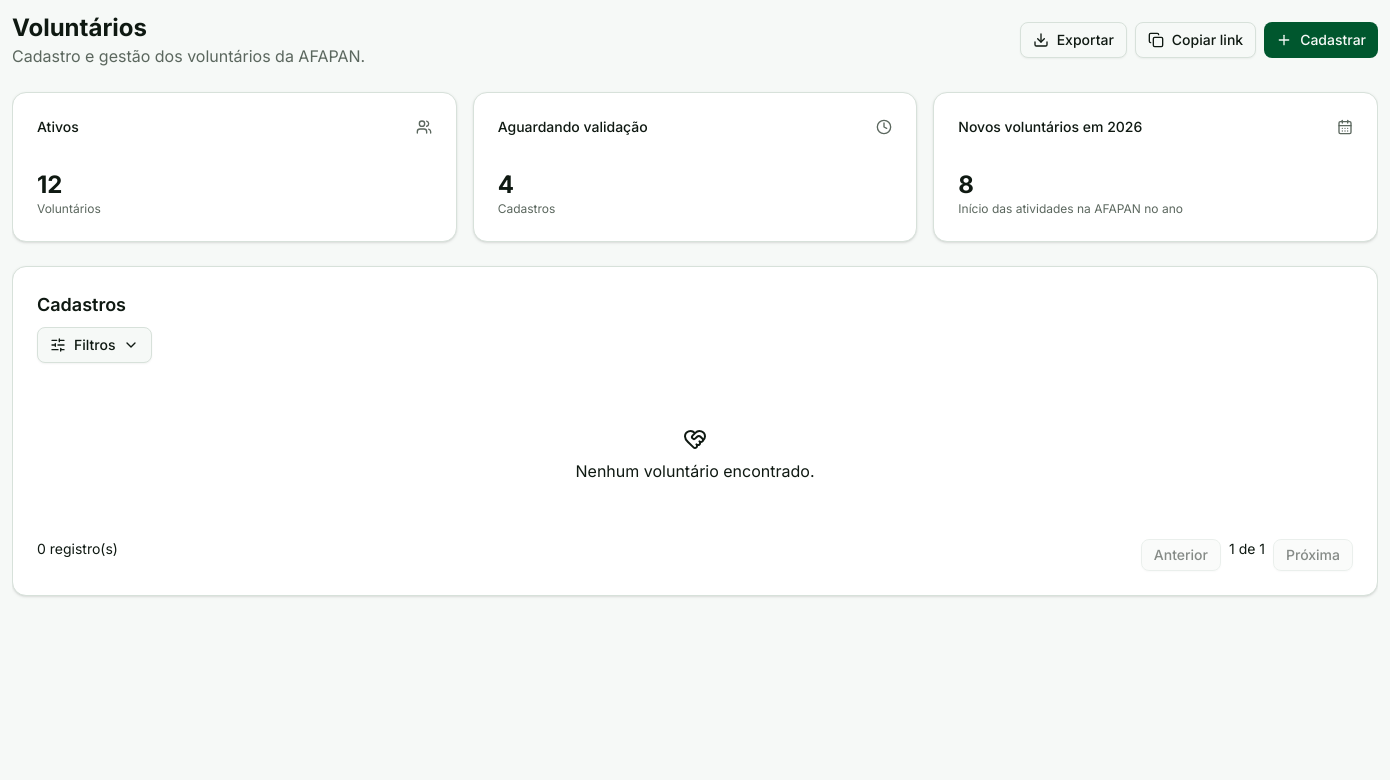
Test: listagem de voluntários com cadastro permanente › CA-005: falha de cópia orienta nova tentativa sem exibir o endereço
Click the button "Copiar link": (1195, 40) [1135,22,1256,58]
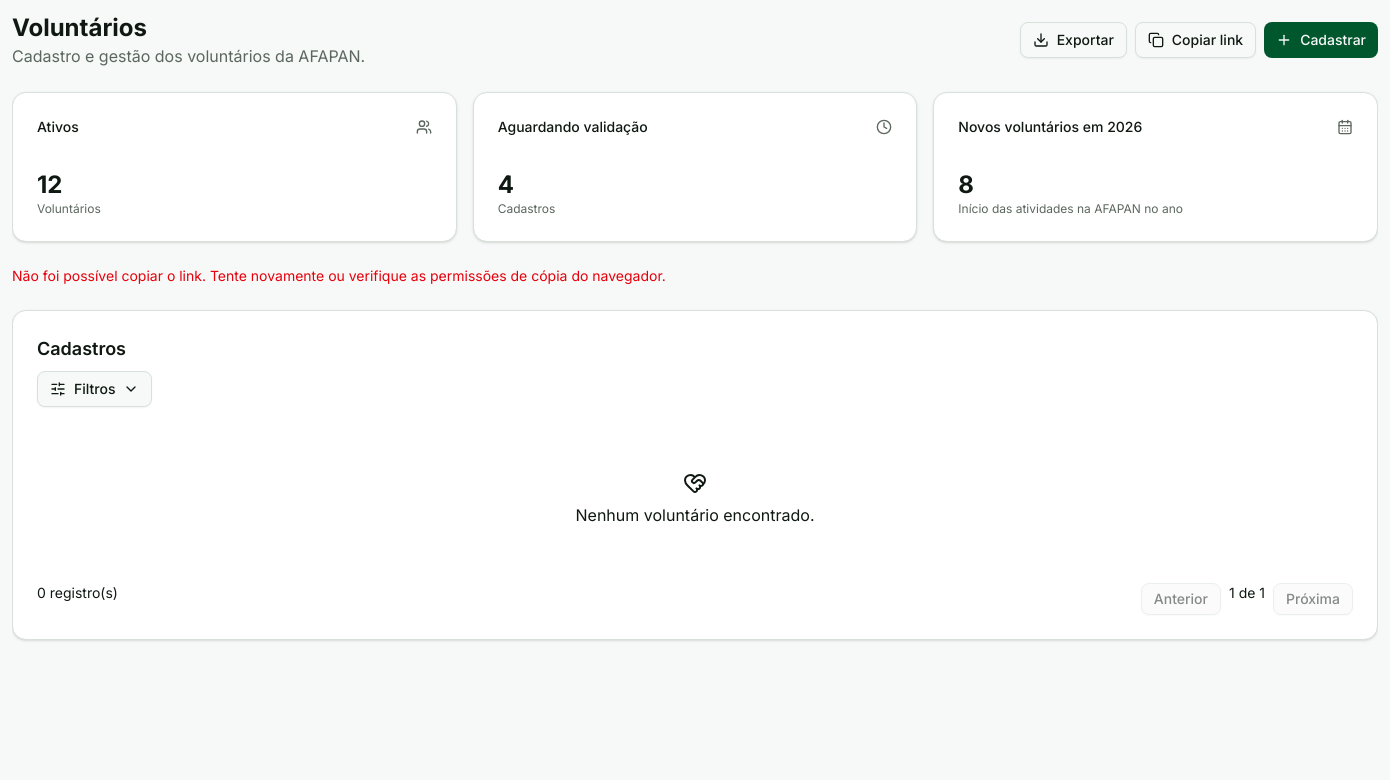
Expected: the message named "Estado da cópia do link" shows "Tente novamente ou verifique as permissões de cópia do navegador.", [12,267,666,284]
